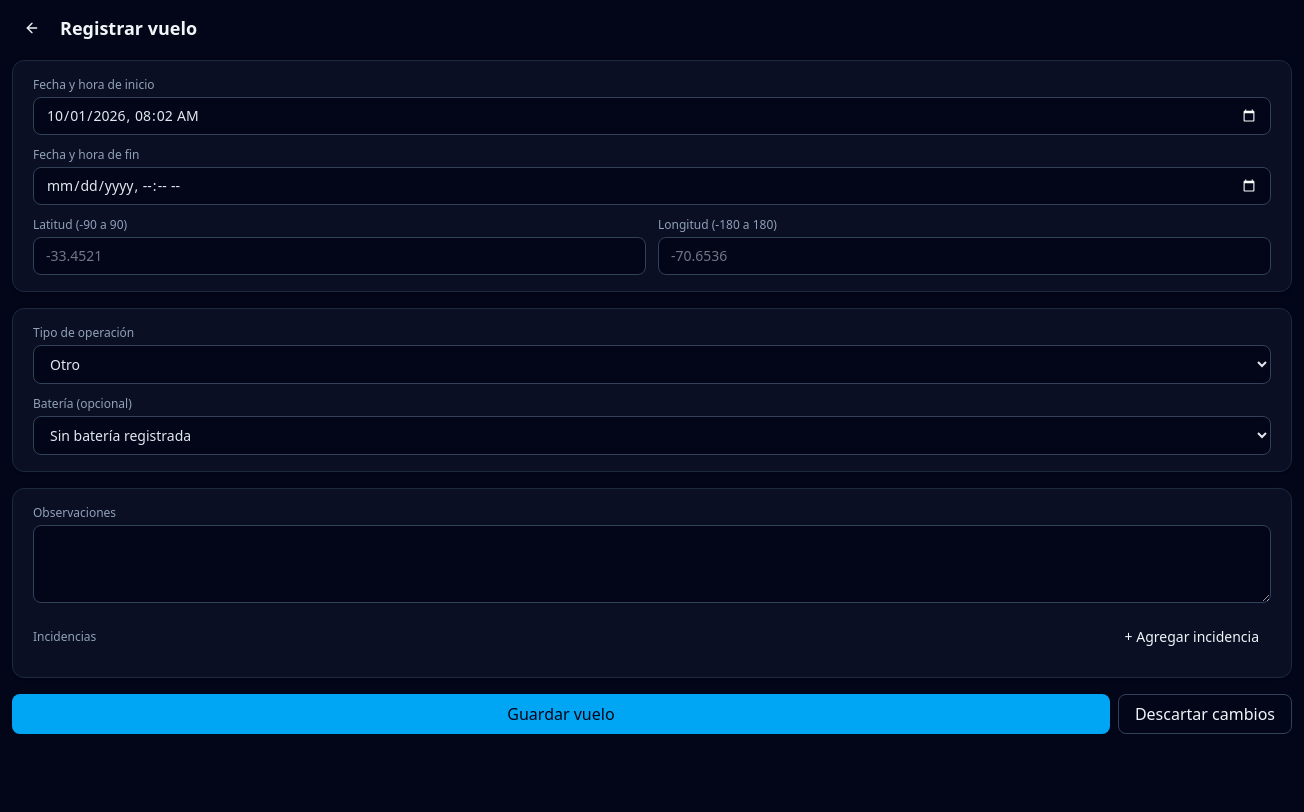
Test: FlightForm › accepts explicit 0,0 as valid coordinates
The image size is (1304, 812).
Type "0" into the field labelled "Latitud (-90 a 90)" at [340, 256], box [33, 237, 646, 275]
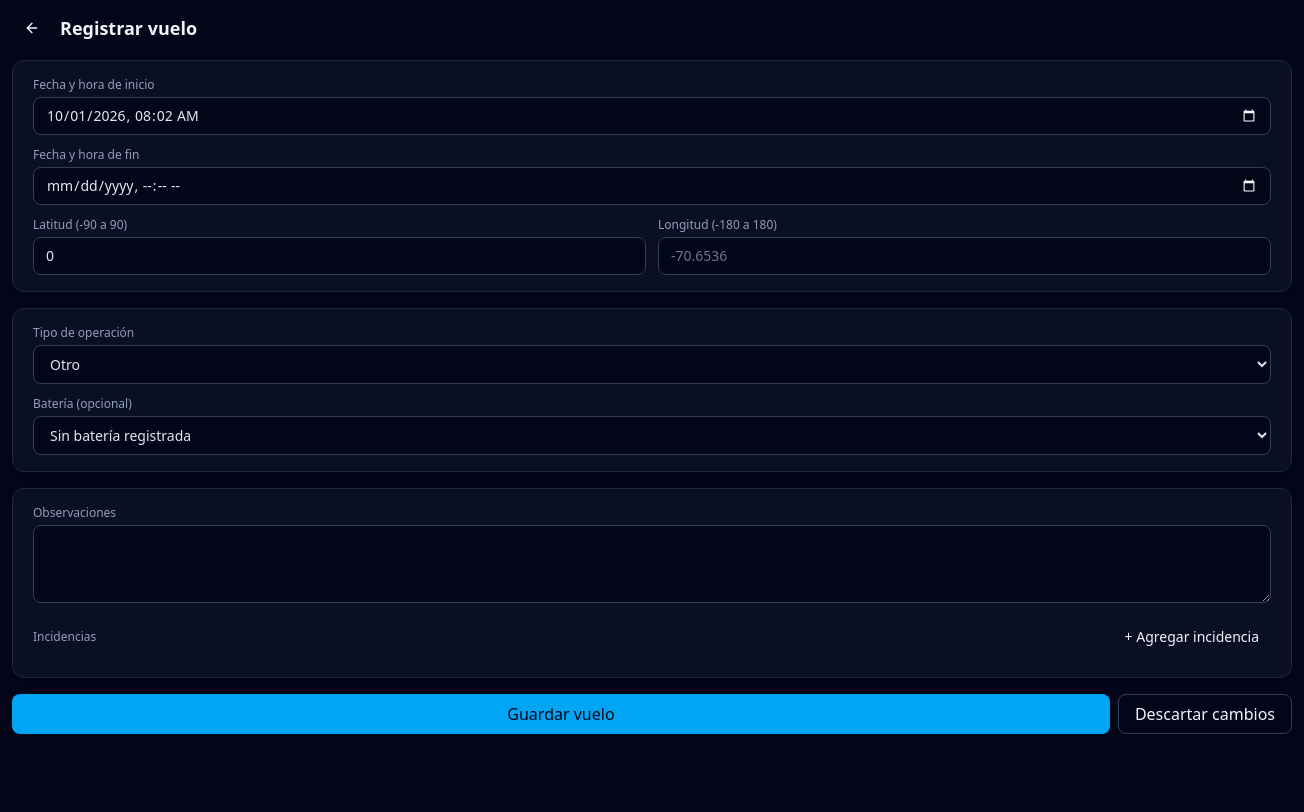
Type "0" into the field labelled "Longitud (-180 a 180)" at [964, 256], box [658, 237, 1271, 275]
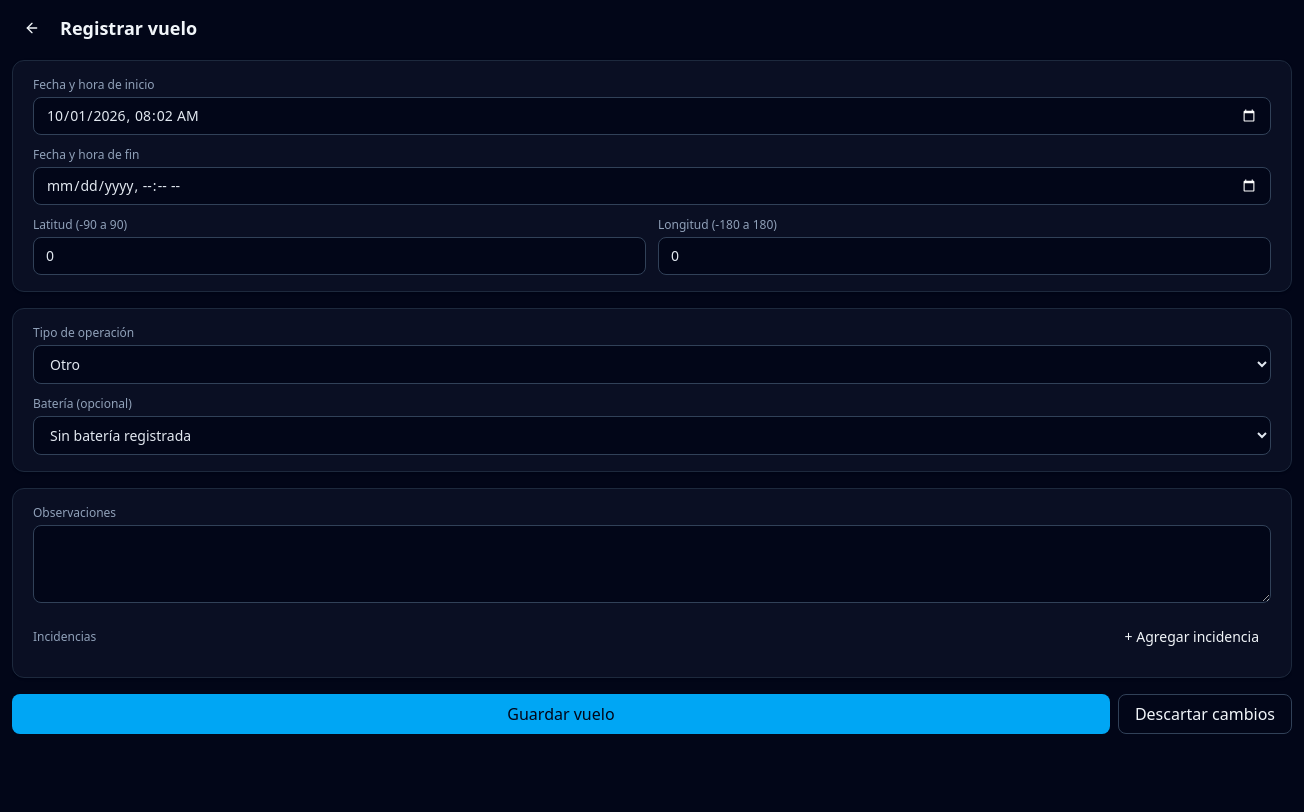
Click the button "Guardar vuelo" at [561, 714], box [12, 694, 1110, 734]
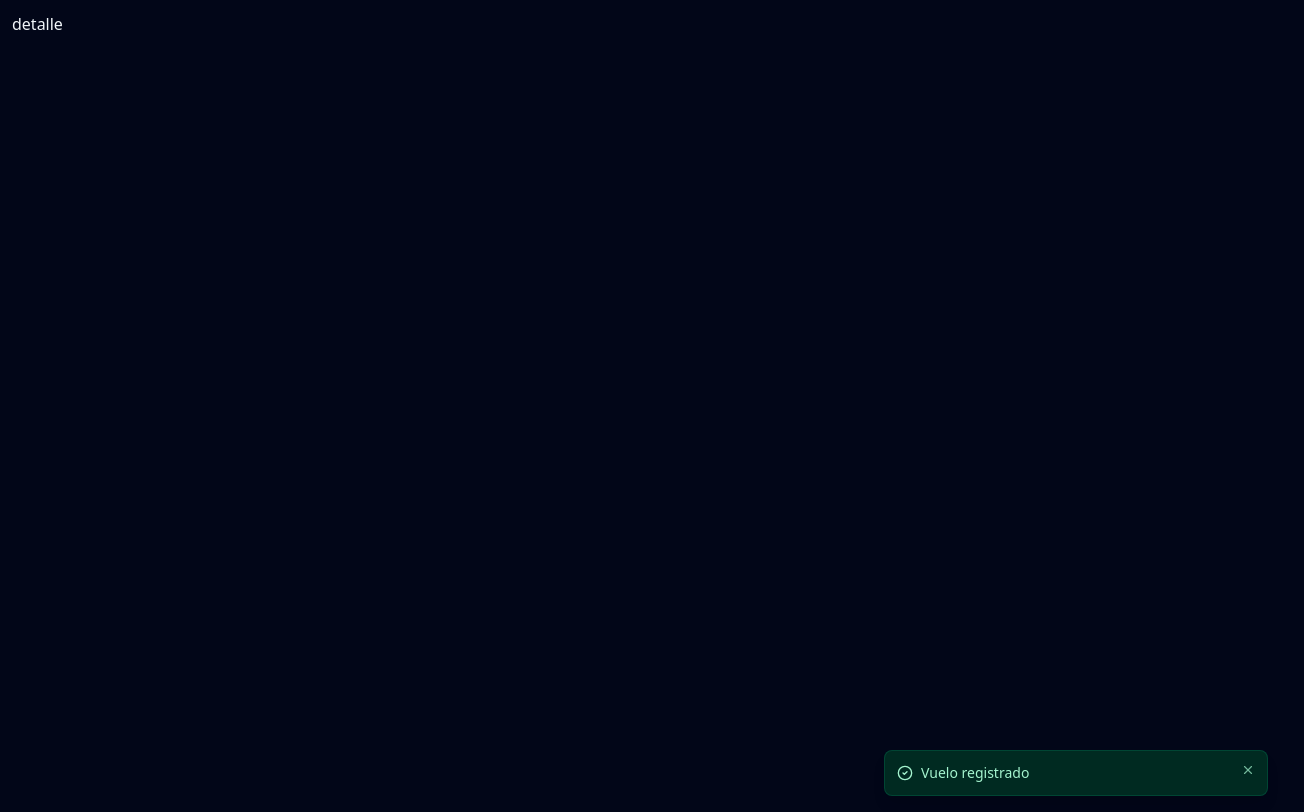
Check: the text "Vuelo registrado" is shown, box [921, 763, 1029, 782]
